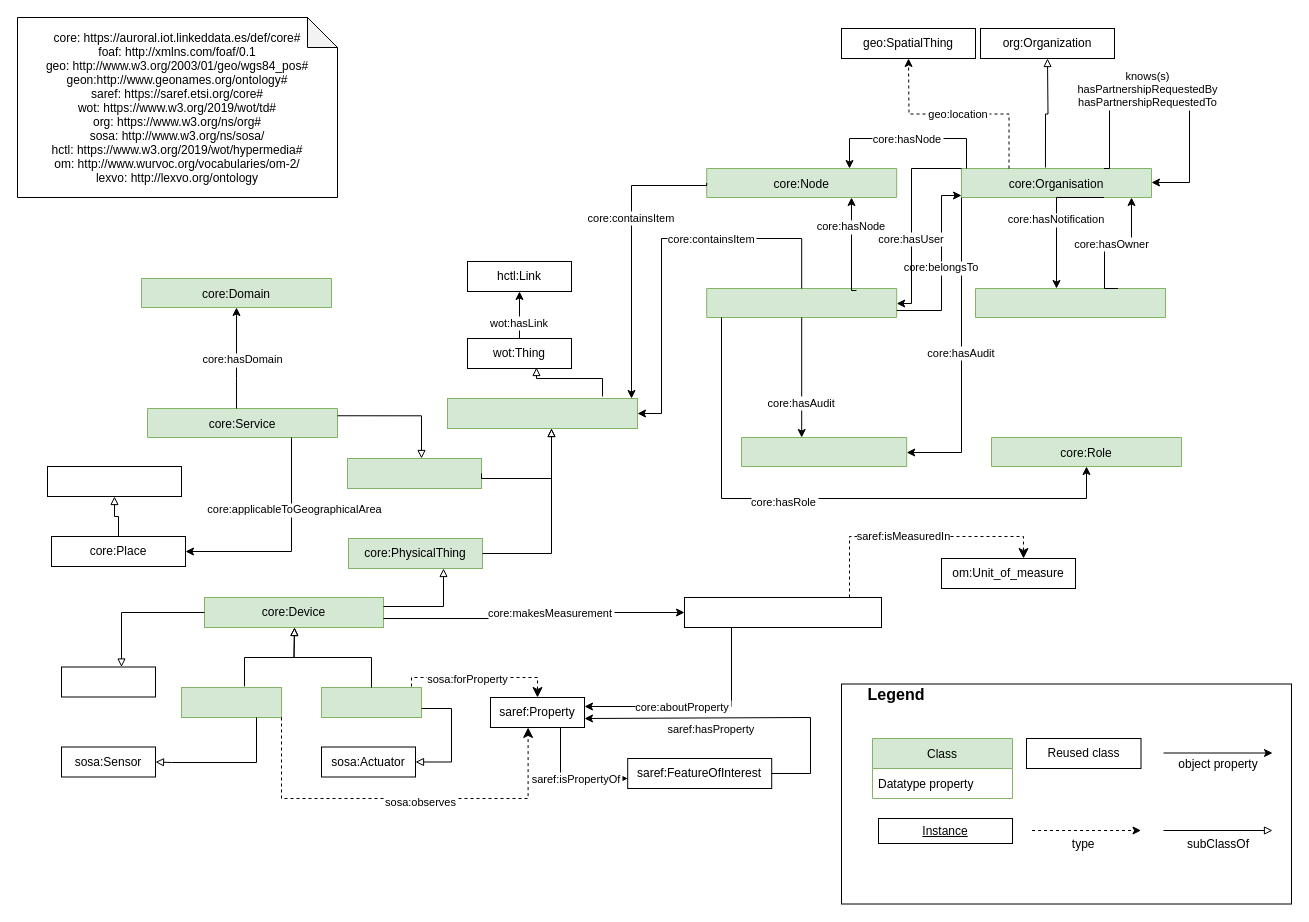
Some shapes in this 1309 by 922 pixel diagram are drawn without their labels. Each missing label, with the centre of its shape:
core:Actuator: (371,702)
core:Audit: (823,451)
core:Item: (542,413)
core:Notification: (1070,303)
core:Sensor: (231,702)
core:User: (801,303)
core:VirtualThing: (414,473)
geon:Feature: (114,481)
saref:Device: (108,681)
saref:Measurement: (783,612)
